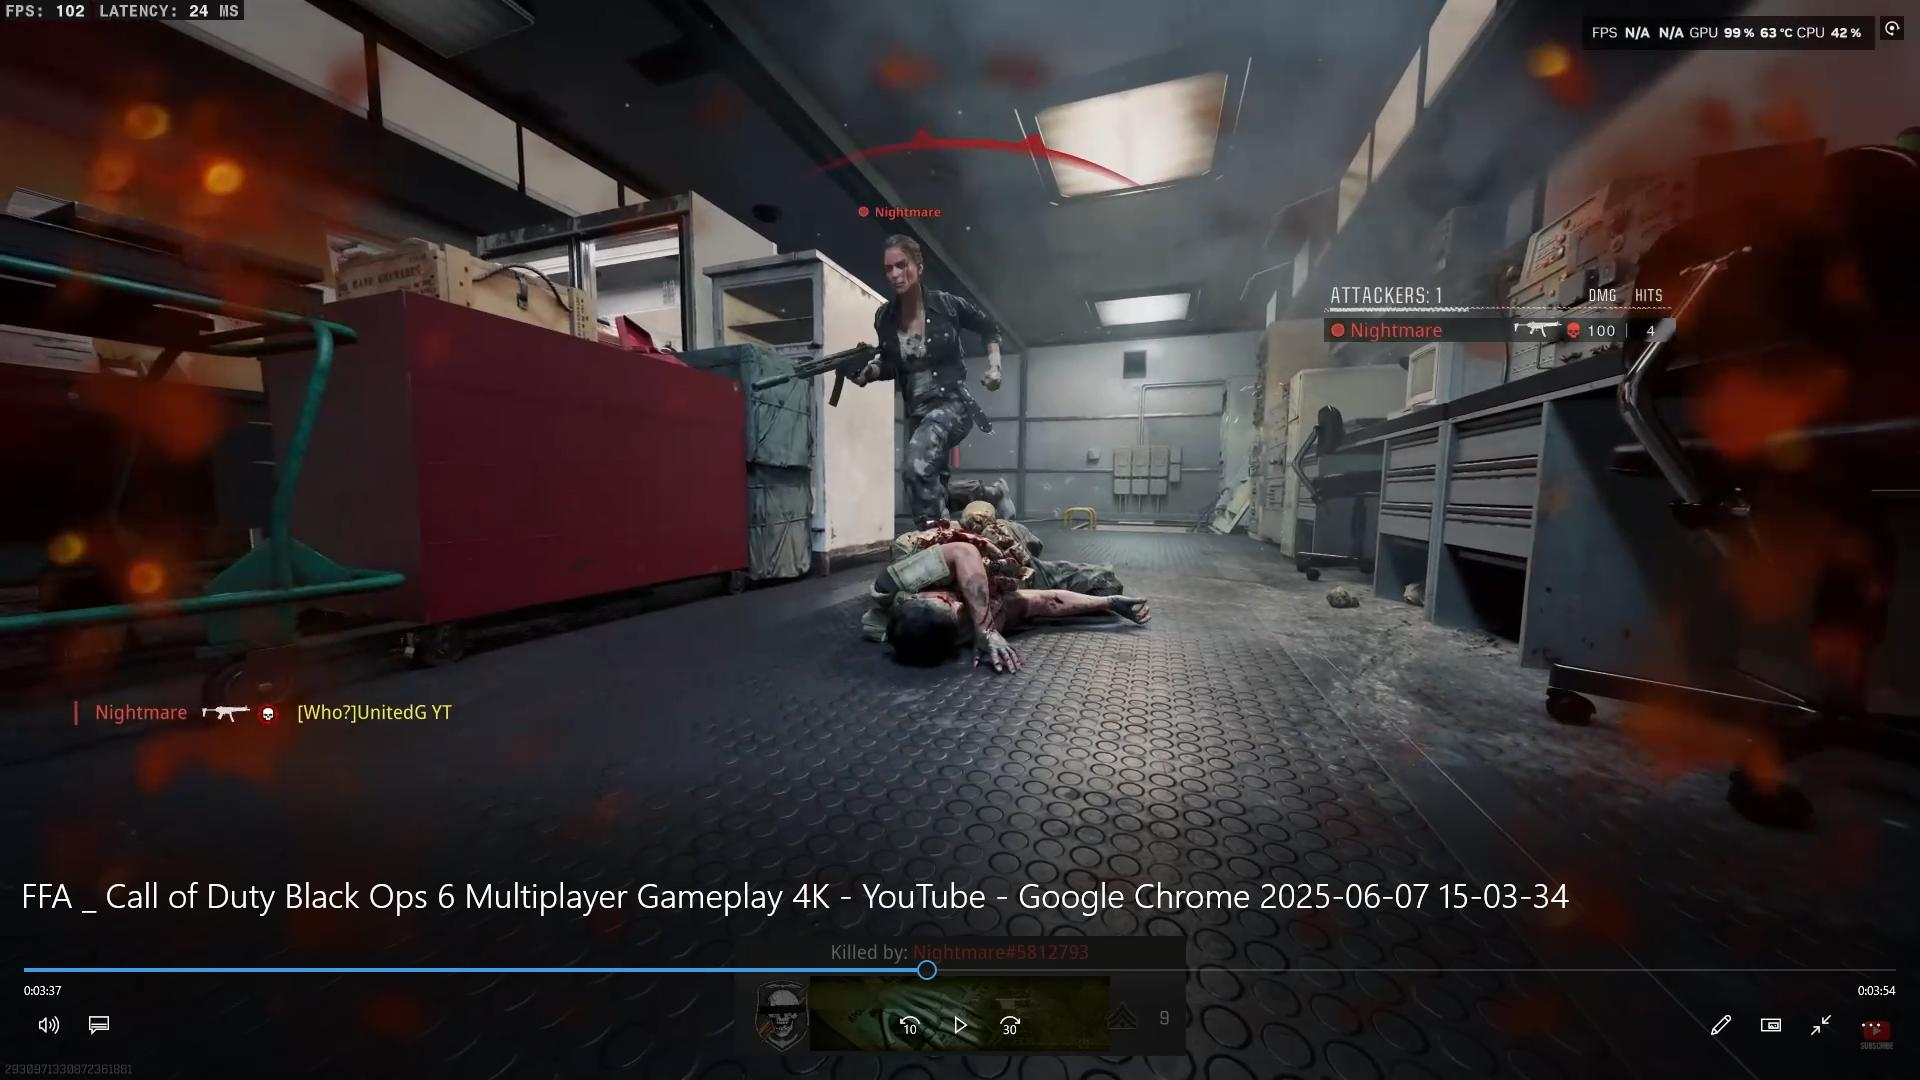Enemy: (795, 189, 1007, 504)
